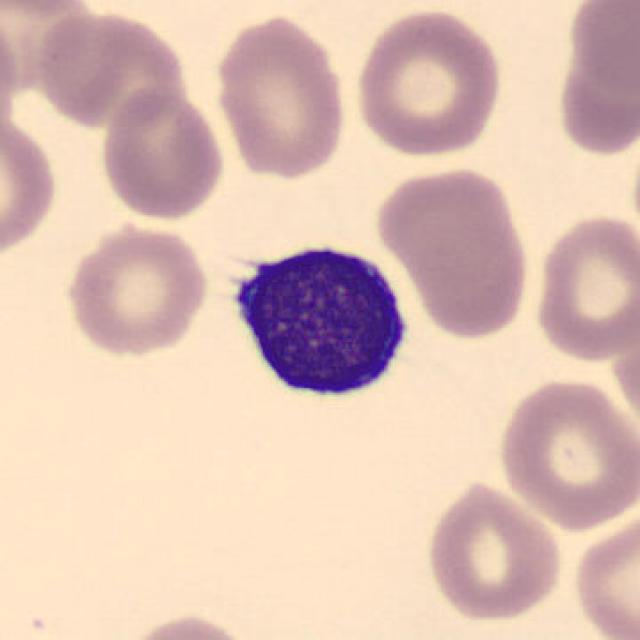Lymphocyte: (215, 226, 420, 416)
RBC: (372, 162, 530, 323), (210, 10, 352, 182), (350, 6, 507, 160), (494, 372, 636, 531), (60, 217, 212, 360), (421, 478, 567, 624), (30, 5, 194, 130), (96, 85, 228, 222), (528, 208, 638, 367), (549, 40, 640, 157), (0, 2, 105, 95), (0, 105, 60, 264), (569, 506, 638, 640), (562, 0, 638, 97), (116, 610, 263, 640), (0, 0, 108, 17)
